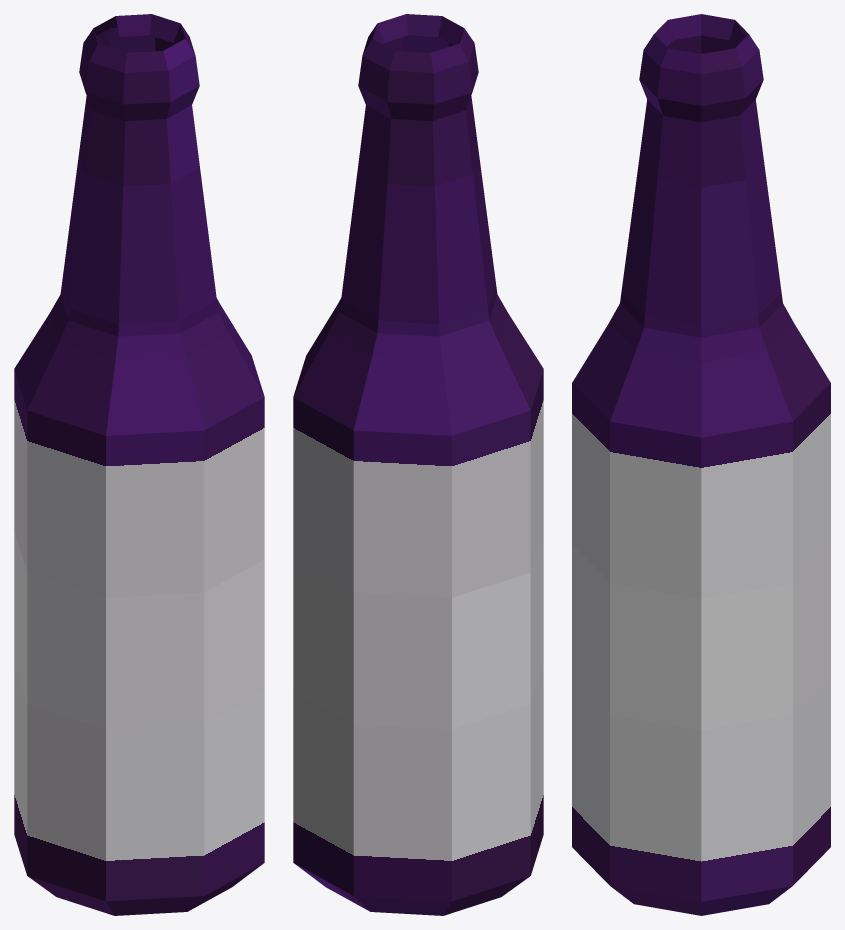
The model's file is garrafaZefir.fbx.
3 renders of one model, left to right at view 1: azimuth 30°, elevation 25°; view 2: azimuth 150°, elevation 25°; view 3: azimuth 270°, elevation 25°, orthographic.
Visible parts, largest first — view 1: Cylinder.001; view 2: Cylinder.001; view 3: Cylinder.001.
Part boxes in pixels (left/top/right/bottom): Cylinder.001: left=14, top=14, right=264, bottom=915; Cylinder.001: left=293, top=14, right=543, bottom=915; Cylinder.001: left=572, top=14, right=830, bottom=915.
Bounding box in the file's own units: 11.17 × 40.09 × 11.17.
Materials: 1 (1 with a texture image).
